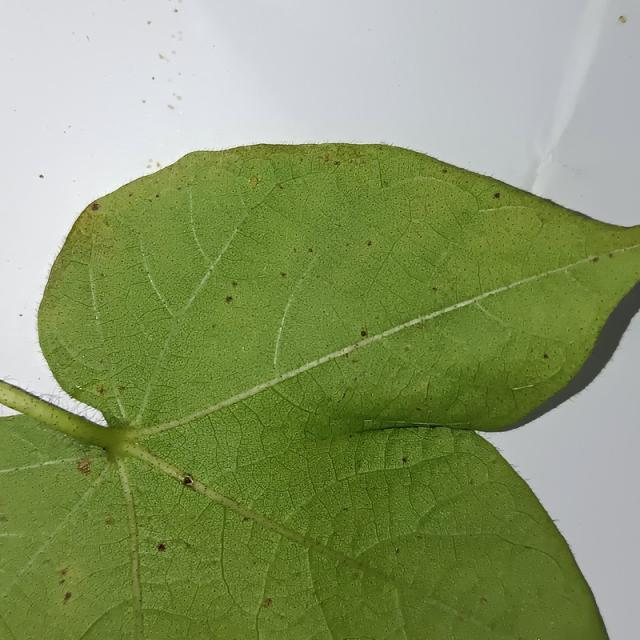Bacterial_Blight: (528, 255, 626, 375), (470, 202, 552, 271), (300, 332, 383, 375), (17, 391, 61, 428), (313, 146, 370, 173), (56, 566, 77, 604), (77, 211, 99, 238), (218, 292, 248, 311), (76, 459, 92, 476), (321, 152, 338, 165), (184, 174, 198, 187), (249, 175, 259, 189), (360, 324, 369, 338), (96, 383, 105, 395), (59, 567, 68, 577), (105, 516, 114, 526), (425, 381, 431, 396), (91, 203, 100, 211), (0, 515, 9, 523), (414, 323, 425, 329), (590, 256, 599, 263), (403, 346, 410, 353), (493, 192, 500, 199), (468, 478, 475, 485), (118, 386, 126, 392), (242, 516, 250, 522), (366, 240, 372, 247), (280, 272, 287, 278), (480, 598, 487, 604), (341, 392, 347, 399), (432, 286, 438, 292), (231, 281, 237, 287), (382, 180, 388, 186), (402, 457, 408, 463), (395, 547, 400, 554), (442, 169, 448, 174), (543, 353, 548, 359), (609, 252, 614, 258), (415, 407, 422, 411), (308, 248, 313, 253), (102, 446, 107, 451), (155, 194, 160, 198)
Cotton: (0, 143, 639, 639)
